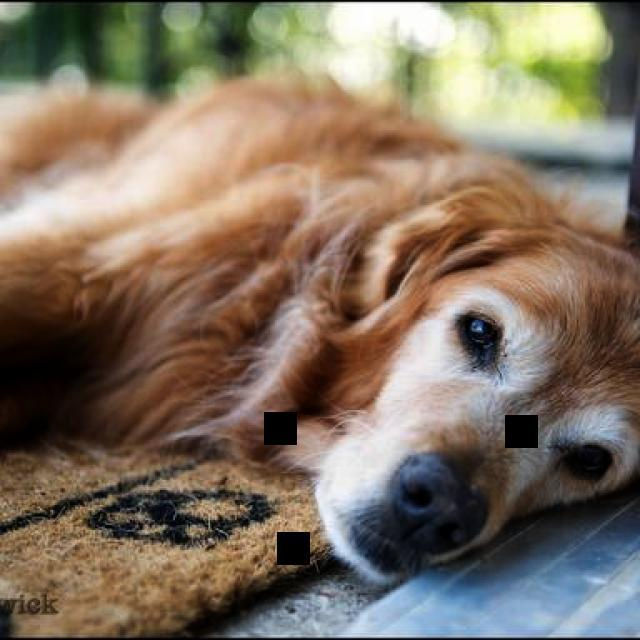adult_dog: (2, 56, 640, 588)
